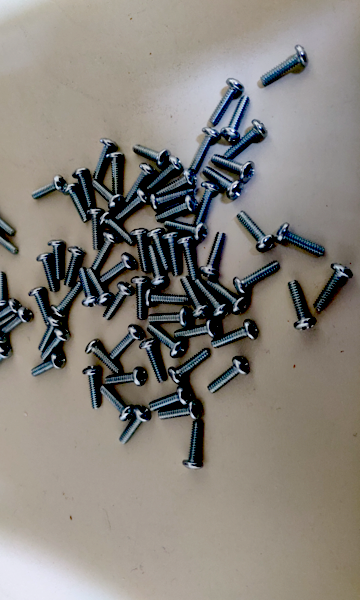shortscrew: (260, 45, 309, 86), (313, 264, 353, 312), (225, 119, 269, 159), (275, 223, 326, 257), (211, 77, 246, 125), (233, 261, 281, 296), (237, 211, 276, 253), (208, 357, 251, 394), (207, 278, 249, 315), (168, 349, 211, 385), (212, 319, 260, 349), (288, 281, 316, 331), (203, 167, 244, 201), (195, 279, 230, 318), (221, 96, 250, 143), (146, 324, 186, 358), (119, 405, 152, 446), (147, 155, 183, 192), (109, 324, 144, 362), (199, 231, 227, 278), (86, 339, 122, 375), (180, 276, 210, 319), (194, 180, 222, 226), (212, 155, 257, 183), (100, 386, 135, 422), (155, 168, 197, 197), (148, 385, 193, 412), (155, 195, 200, 222), (150, 187, 196, 213), (193, 127, 220, 171), (114, 188, 150, 221), (99, 212, 135, 245), (103, 283, 134, 321), (140, 339, 166, 384), (92, 139, 119, 182), (52, 282, 84, 318), (126, 163, 154, 204), (61, 183, 89, 224), (92, 231, 120, 271), (146, 229, 172, 272), (38, 314, 66, 353), (86, 267, 114, 306), (41, 325, 71, 361), (176, 237, 200, 282), (100, 253, 136, 283), (183, 422, 205, 470), (147, 245, 171, 289), (164, 219, 209, 242), (174, 318, 221, 339), (36, 252, 60, 293), (132, 144, 171, 169), (159, 399, 203, 421), (148, 306, 192, 328), (30, 352, 66, 377), (161, 232, 181, 277), (65, 246, 86, 288), (105, 366, 147, 387), (130, 229, 150, 273), (144, 289, 189, 308), (73, 167, 93, 209), (106, 152, 125, 196), (1, 308, 33, 334), (32, 176, 68, 199), (83, 366, 101, 411), (131, 276, 149, 320), (48, 240, 67, 280), (78, 268, 97, 308), (86, 209, 102, 250), (0, 225, 19, 255), (0, 207, 16, 236), (0, 345, 13, 374), (0, 330, 9, 364), (0, 272, 8, 310)
